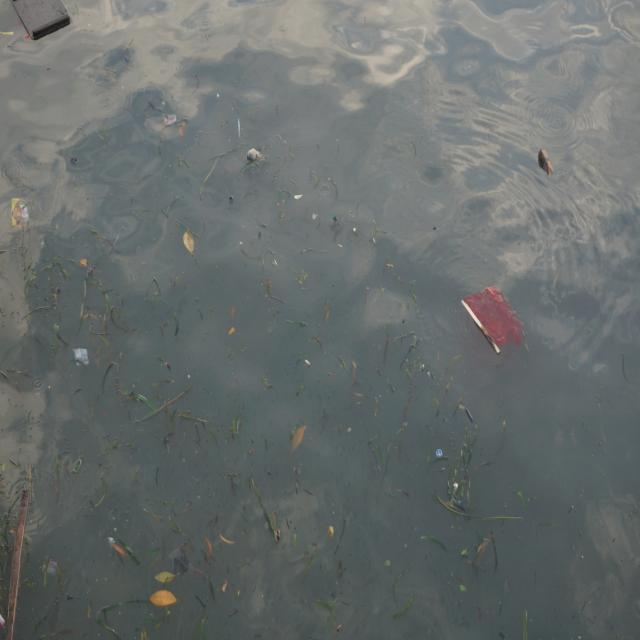Bungkus Makanan: (11, 196, 34, 232)
Bungkus Minuman: (73, 344, 92, 370)
Kantong Plastik: (461, 285, 528, 360)
